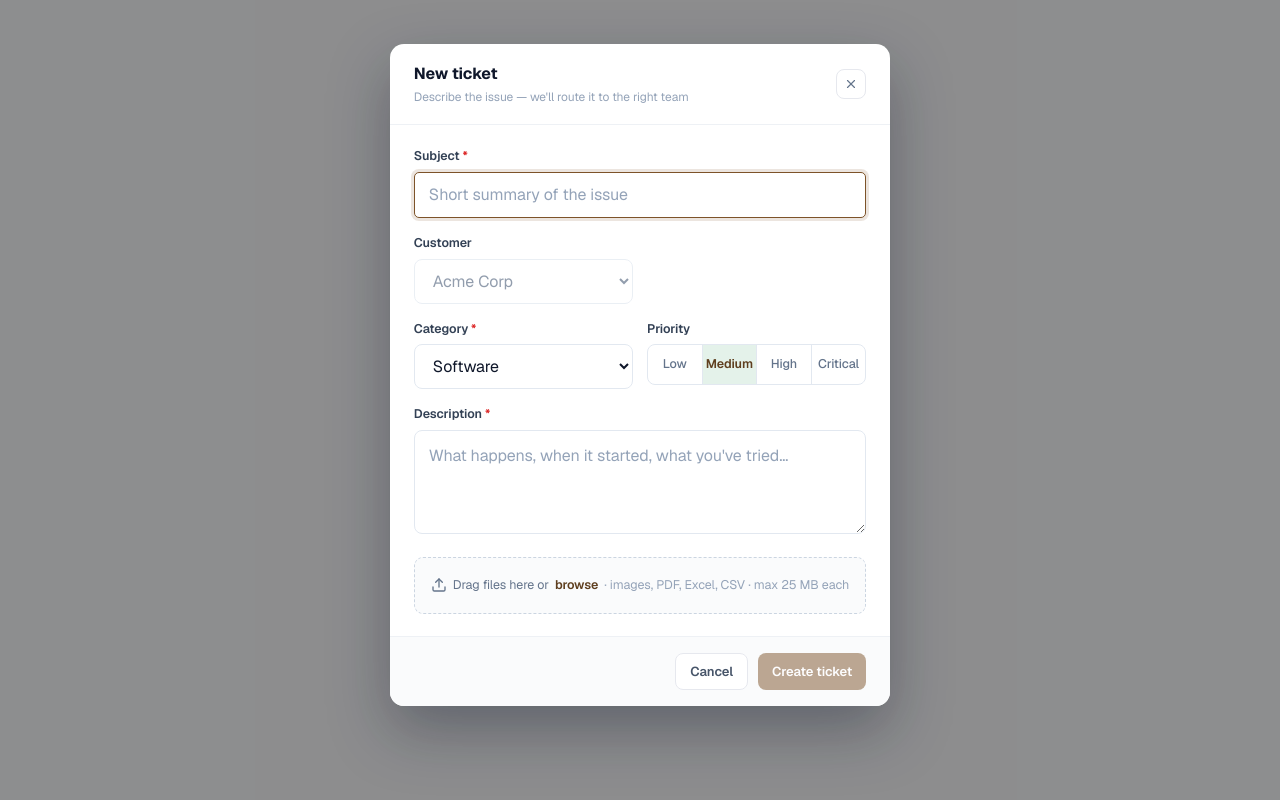
it: a form with something in it › asks on Cancel too
Type "printer on fire" into the field labelled "Subject *".
click(640, 195); type("printer on fire")  # box x1=414 y1=172 x2=866 y2=218
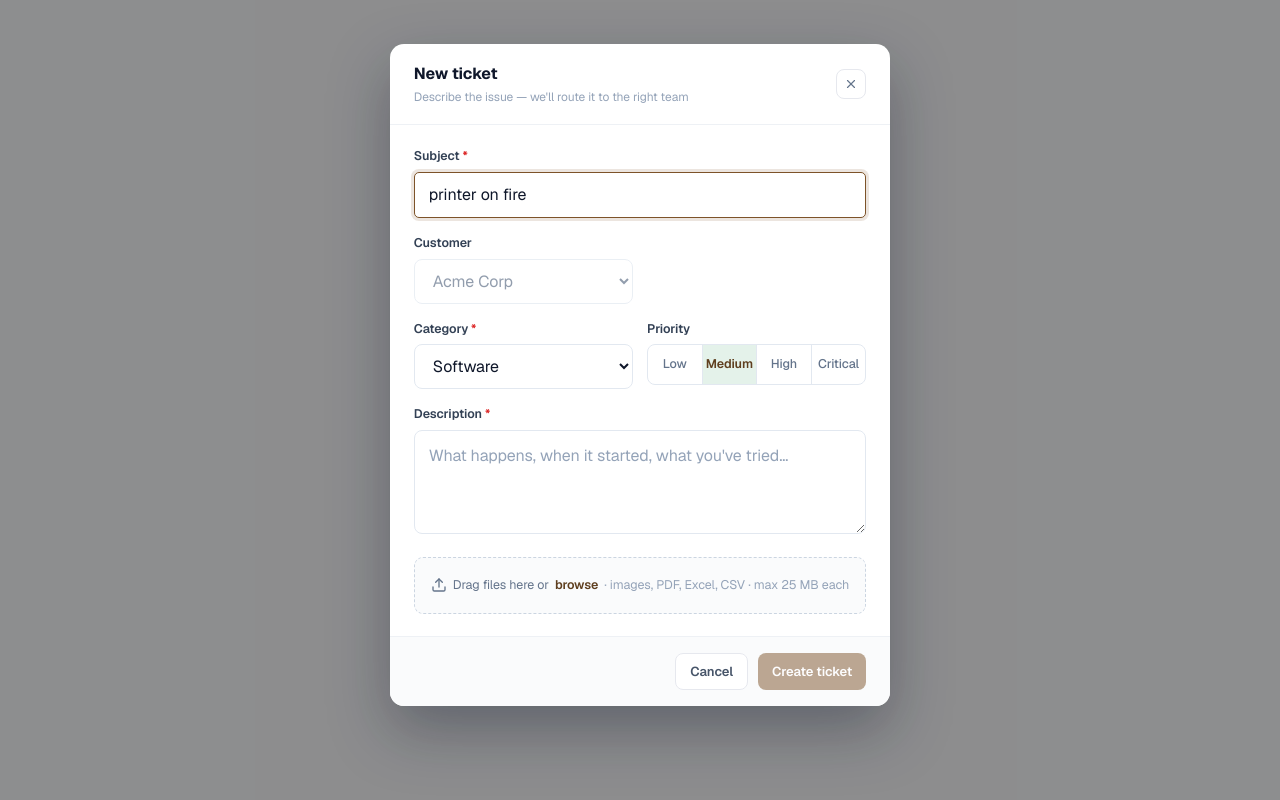
Click the button "Cancel".
click(712, 672)  # box x1=675 y1=653 x2=748 y2=690
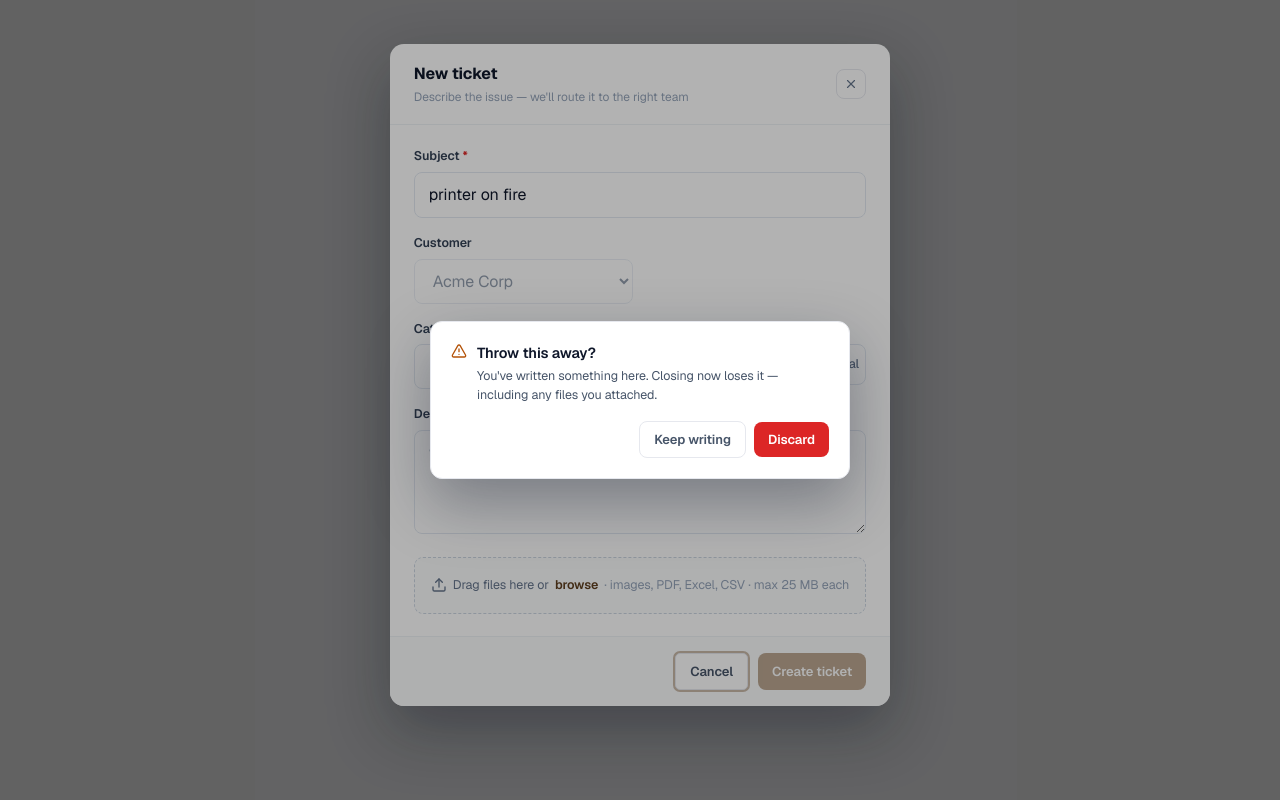
Expected: the text "Throw this away?" is shown, x1=477 y1=343 x2=596 y2=362
